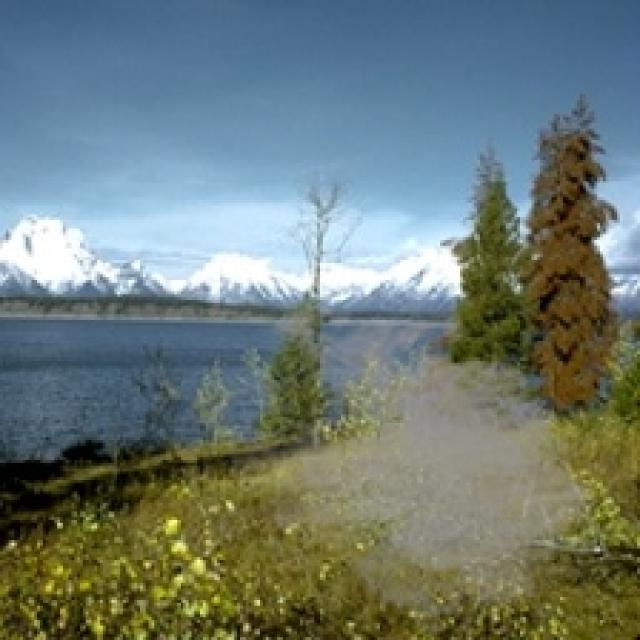smoke: (203, 294, 617, 637)
